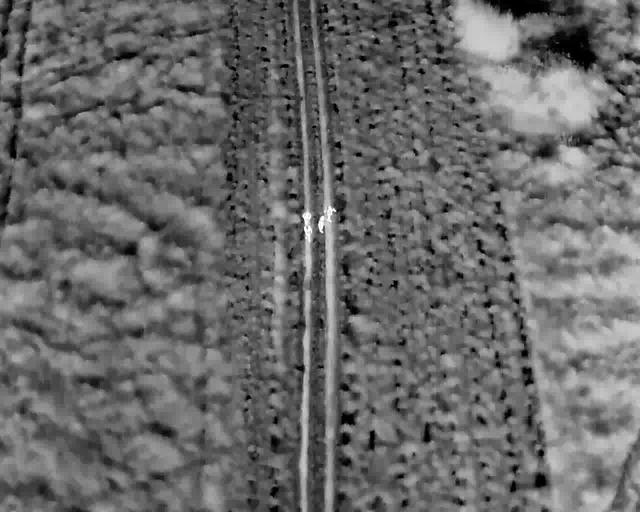person: (317, 214, 331, 234), (324, 202, 338, 222), (301, 210, 313, 229), (302, 224, 312, 241)
